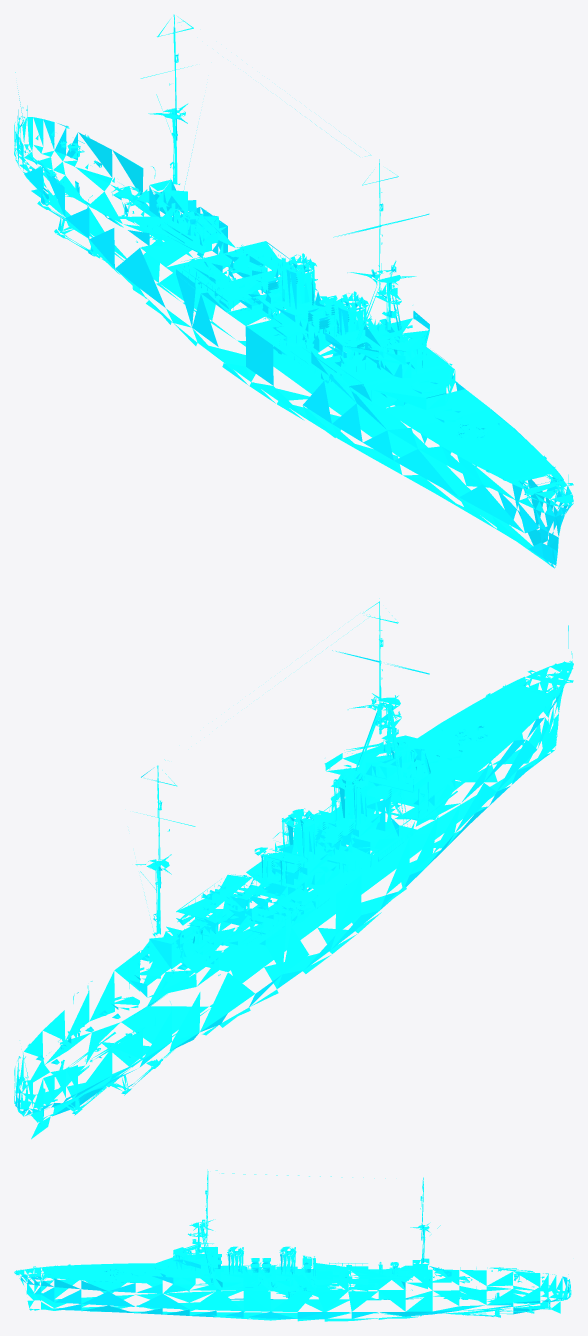
The model's file is Duguay_Trouin.glb.
3 views of the same model, one above another, from view 1: azimuth 30°, elevation 25°; view 2: azimuth 150°, elevation 25°; view 3: azimuth 270°, elevation 25° (orthographic). The views are drawn at different scales.
Bounding box in the file's own units: 1.24 × 3.47 × 12.12.
